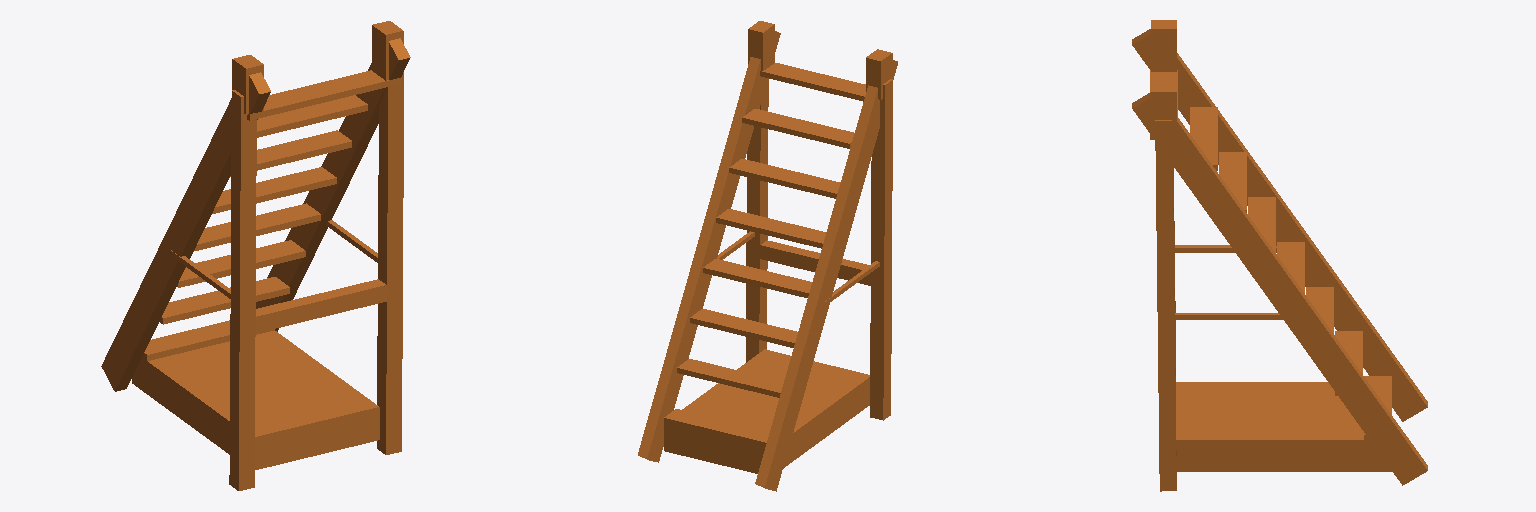
URDF robot description (wood_step_ladder):
<?xml version="1.0"?>
<robot name="wood_step_ladder">
  <!-- Mesh wrapper for quick preview/CAD import. Use wood_step_ladder_sim.urdf for Isaac Gym contacts. -->
  <link name="base">
    <visual>
      <origin xyz="0 0 0" rpy="0 0 0"/>
      <geometry>
        <mesh filename="wood_step_ladder.stl" scale="1 1 1"/>
      </geometry>
      <material name="wood">
        <color rgba="0.78 0.48 0.22 1.0"/>
      </material>
    </visual>
    <collision>
      <origin xyz="0 0 0" rpy="0 0 0"/>
      <geometry>
        <mesh filename="wood_step_ladder.stl" scale="1 1 1"/>
      </geometry>
    </collision>
    <inertial>
      <origin xyz="0 -0.55 0.9" rpy="0 0 0"/>
      <mass value="100.0"/>
      <inertia ixx="10.0" ixy="0.0" ixz="0.0" iyy="10.0" iyz="0.0" izz="10.0"/>
    </inertial>
  </link>
</robot>

--- Facts derived from the render (not from the file) ---
3 views of the same robot in one strip: view 1: azimuth 30°, elevation 25°; view 2: azimuth 150°, elevation 25°; view 3: azimuth 270°, elevation 25° (orthographic).
Robot: wood_step_ladder — 1 links, 0 joints (none); root link base; default pose: every joint at zero.
Visible links, largest first — view 1: base; view 2: base; view 3: base.
Link boxes in pixels (box(x1,y1,x2,y2)): base: box(101, 21, 410, 490); base: box(638, 21, 897, 491); base: box(1132, 20, 1427, 491).
Size in the robot's own frame: 0.82 by 1.38 by 2.04 metres.
1 mesh visuals loaded from 1 distinct referenced files (1 ASCII STL).
